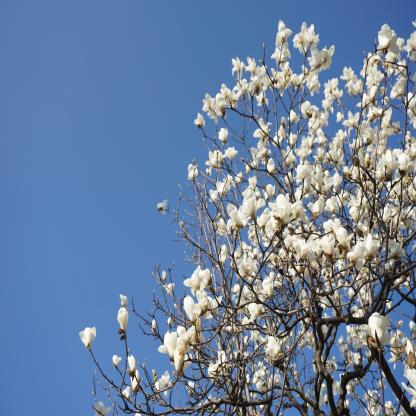Mokuren: (78, 17, 416, 416)
